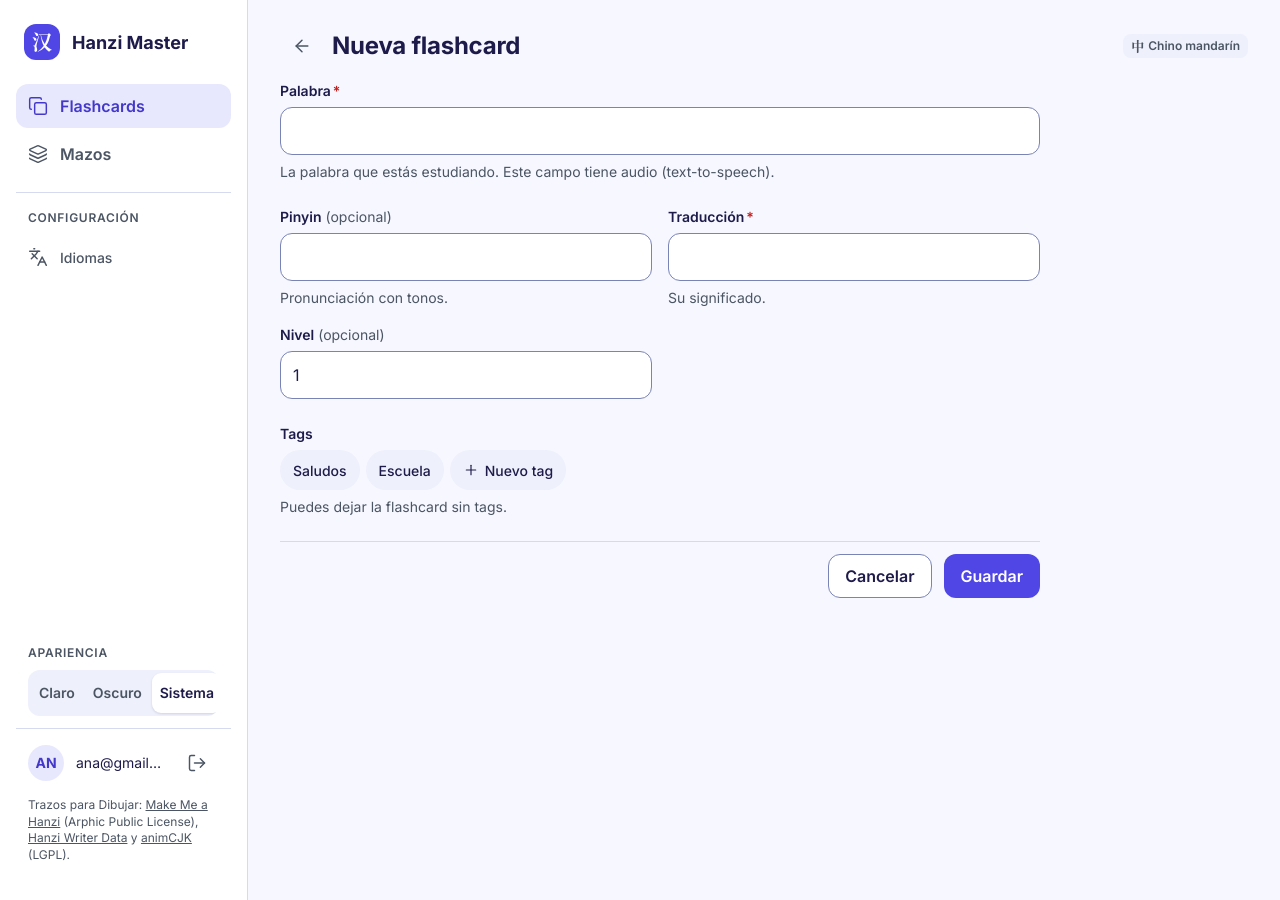
F03 · Crear y editar flashcard › F03-2 no se puede guardar sin Palabra y Traducción; el error aparece junto al campo y el foco va al primero
Expected: the field labelled "Palabra*" is shown, top-left (280, 107), bottom-right (1040, 155)
Click the button "Guardar" at (992, 576), box top-left (944, 554), bottom-right (1040, 598)
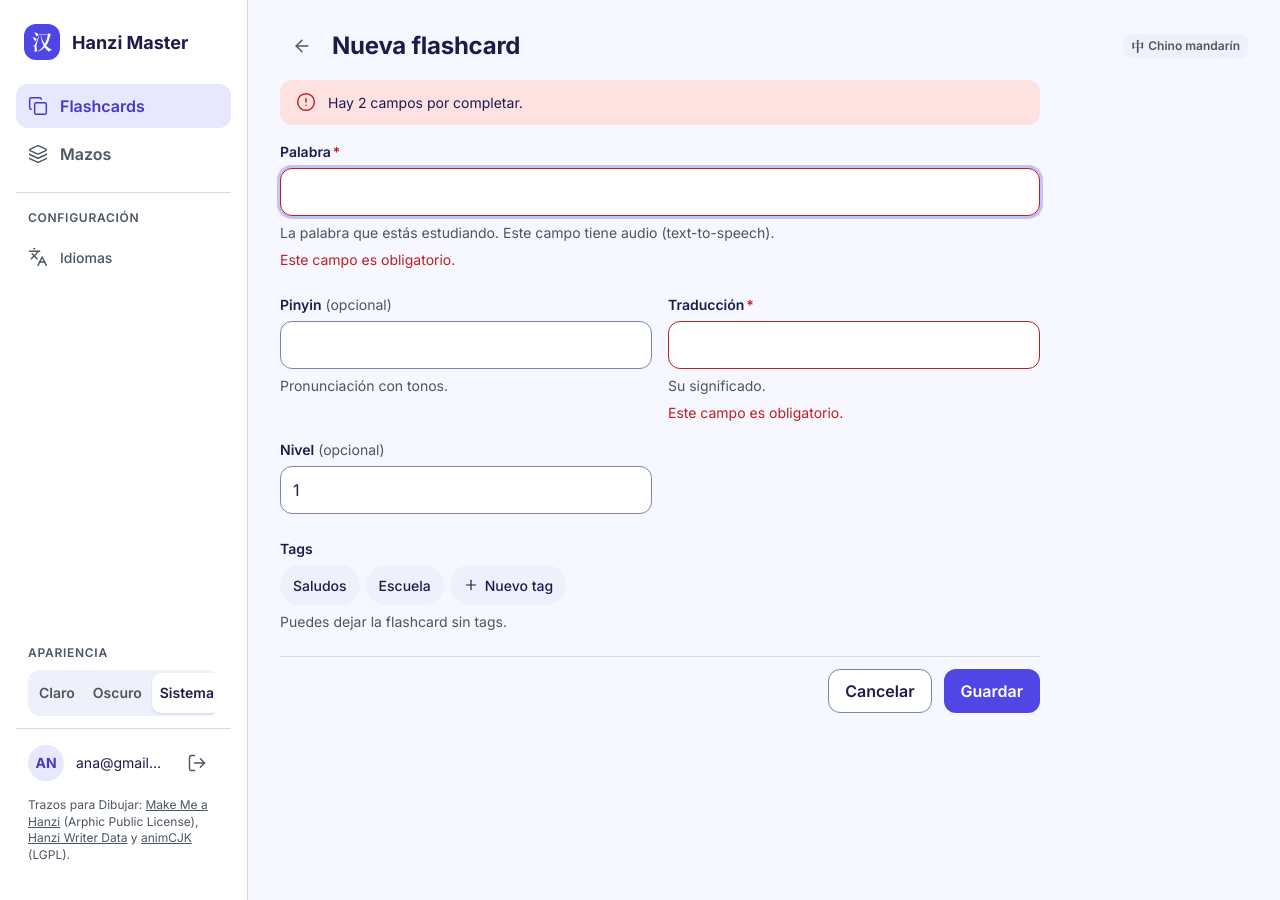
Now the text "Este campo es obligatorio." is shown 2 times, box top-left (280, 251), bottom-right (455, 268); top-left (668, 404), bottom-right (843, 421)
